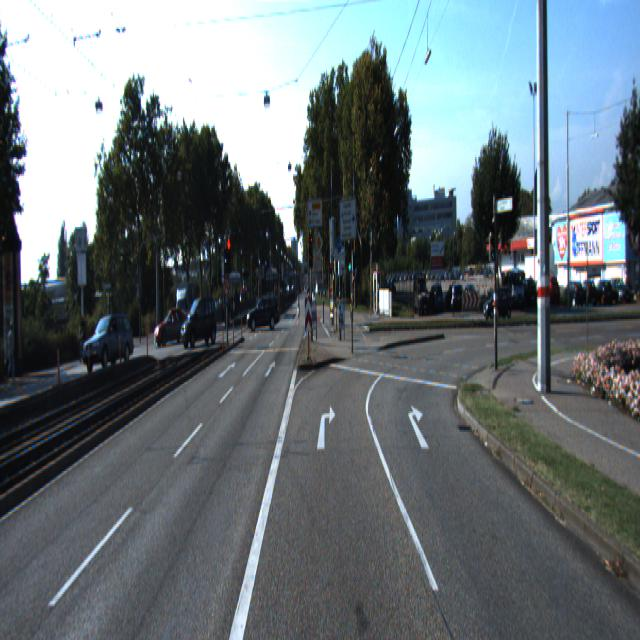Car: (83, 312, 136, 376), (180, 297, 218, 350), (154, 306, 190, 348), (246, 293, 282, 332), (482, 285, 513, 321)
